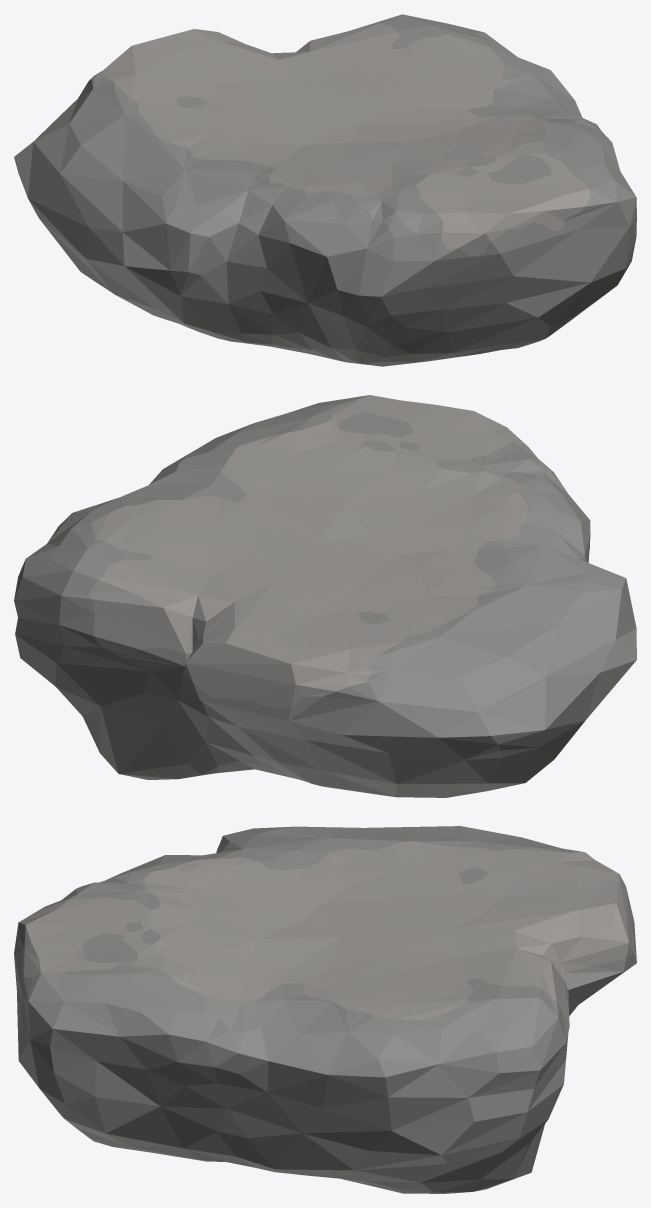
File: Cavern_Floor_Wide_Narrow-02.fbx
3 renders of one model, top to bottom at view 1: azimuth 30°, elevation 25°; view 2: azimuth 150°, elevation 25°; view 3: azimuth 270°, elevation 25°, orthographic. The views are drawn at different scales.
Visible parts, largest first — view 1: Cavern_Floor_Wide_Narrow-02; view 2: Cavern_Floor_Wide_Narrow-02; view 3: Cavern_Floor_Wide_Narrow-02.
Part boxes in pixels (x1=…): Cavern_Floor_Wide_Narrow-02: x1=14, y1=14, x2=636, y2=366; Cavern_Floor_Wide_Narrow-02: x1=14, y1=395, x2=636, y2=797; Cavern_Floor_Wide_Narrow-02: x1=14, y1=826, x2=636, y2=1193.
Bounding box in the file's own units: 1353 × 548 × 1376.
Materials: 1 (1 with a texture image).
